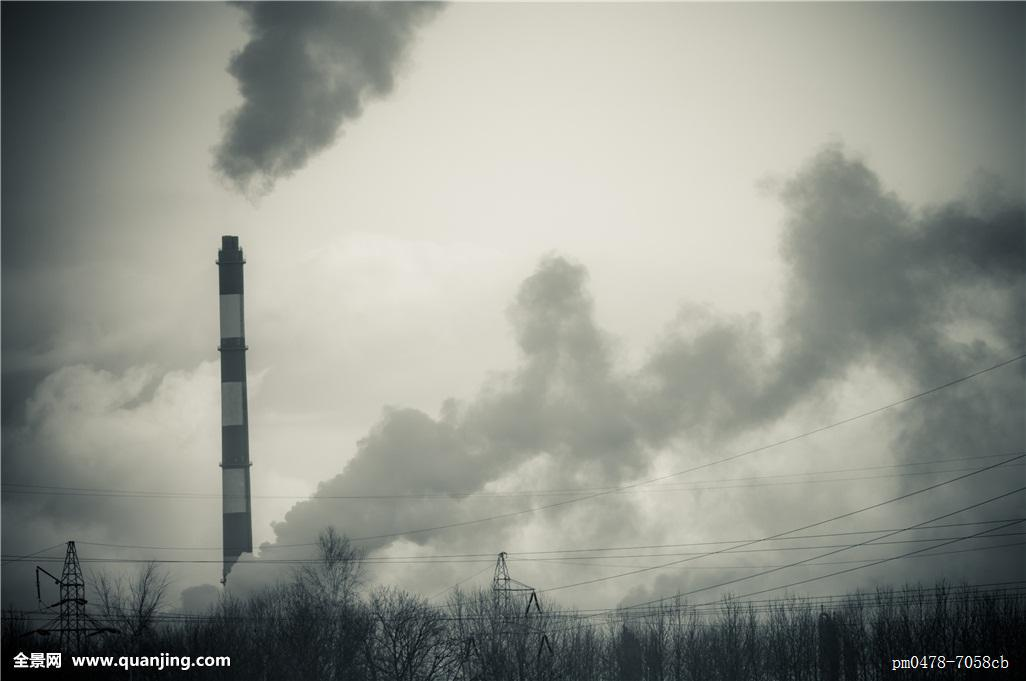dust: (181, 18, 399, 280)
